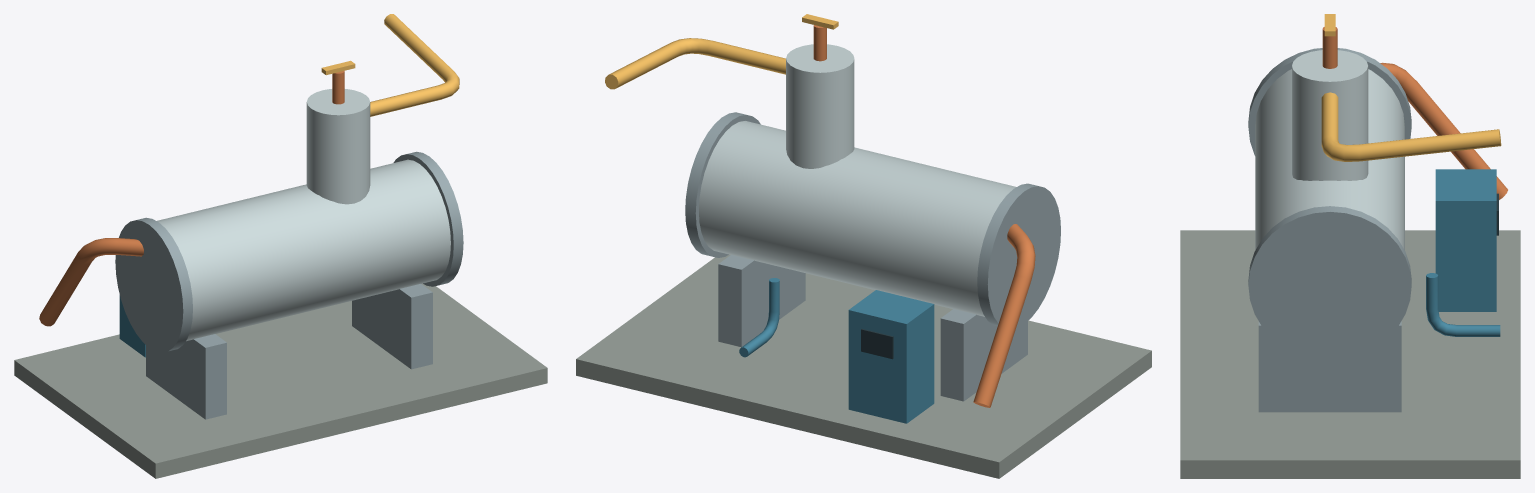
File: 058_salt_steam_generator.glb
3 renders of one model, left to right at view 1: azimuth 30°, elevation 25°; view 2: azimuth 150°, elevation 25°; view 3: azimuth 270°, elevation 25°, orthographic. The views are drawn at different scales.
Parts seen in each view (by area): view 1: SteamGeneratorSkid, OilWaterIsolatedShell, BoltedTubeSheet, SteamDome, PressureVesselSaddle.001, PressureVesselSaddle, LiveSteamRiser, OilSupplyAndReturn, BoltedTubeSheet.001, AuxiliaryControlPanel; view 2: SteamGeneratorSkid, OilWaterIsolatedShell, AuxiliaryControlPanel, SteamDome, BoltedTubeSheet, PressureVesselSaddle.001, PressureVesselSaddle, OilSupplyAndReturn, LiveSteamRiser, BoltedTubeSheet.001, FeedwaterLine, PressureReadout; view 3: SteamGeneratorSkid, BoltedTubeSheet.001, OilWaterIsolatedShell, PressureVesselSaddle.001, AuxiliaryControlPanel, SteamDome, LiveSteamRiser, OilSupplyAndReturn, BoltedTubeSheet, FeedwaterLine, SafetyValveStem.
Part boxes in pixels (x1=…): SteamGeneratorSkid: x1=14, y1=283, x2=547, y2=478; OilWaterIsolatedShell: x1=157, y1=159, x2=450, y2=341; BoltedTubeSheet: x1=115, y1=217, x2=192, y2=352; SteamDome: x1=306, y1=89, x2=370, y2=204; PressureVesselSaddle.001: x1=352, y1=284, x2=432, y2=369; PressureVesselSaddle: x1=146, y1=334, x2=226, y2=419; LiveSteamRiser: x1=370, y1=14, x2=459, y2=116; OilSupplyAndReturn: x1=39, y1=238, x2=143, y2=326; BoltedTubeSheet.001: x1=393, y1=151, x2=463, y2=286; AuxiliaryControlPanel: x1=119, y1=295, x2=145, y2=357; SteamGeneratorSkid: x1=576, y1=254, x2=1151, y2=478; OilWaterIsolatedShell: x1=699, y1=121, x2=1016, y2=316; AuxiliaryControlPanel: x1=848, y1=290, x2=934, y2=423; SteamDome: x1=786, y1=44, x2=854, y2=168; BoltedTubeSheet: x1=977, y1=183, x2=1060, y2=328; PressureVesselSaddle.001: x1=718, y1=254, x2=805, y2=347; PressureVesselSaddle: x1=940, y1=309, x2=1027, y2=401; OilSupplyAndReturn: x1=973, y1=224, x2=1035, y2=407; LiveSteamRiser: x1=605, y1=38, x2=785, y2=89; BoltedTubeSheet.001: x1=685, y1=112, x2=760, y2=257; FeedwaterLine: x1=739, y1=278, x2=779, y2=357; PressureReadout: x1=861, y1=329, x2=893, y2=359; SteamGeneratorSkid: x1=1180, y1=230, x2=1520, y2=478; BoltedTubeSheet.001: x1=1248, y1=206, x2=1411, y2=359; OilWaterIsolatedShell: x1=1255, y1=69, x2=1404, y2=250; PressureVesselSaddle.001: x1=1258, y1=321, x2=1401, y2=412; AuxiliaryControlPanel: x1=1435, y1=169, x2=1496, y2=311; SteamDome: x1=1292, y1=50, x2=1368, y2=180; LiveSteamRiser: x1=1321, y1=92, x2=1501, y2=161; OilSupplyAndReturn: x1=1380, y1=62, x2=1507, y2=199; BoltedTubeSheet: x1=1248, y1=48, x2=1411, y2=155; FeedwaterLine: x1=1426, y1=273, x2=1500, y2=336; SafetyValveStem: x1=1322, y1=27, x2=1337, y2=68.
Bounding box in the file's own units: 0.4 × 0.3 × 0.25.
